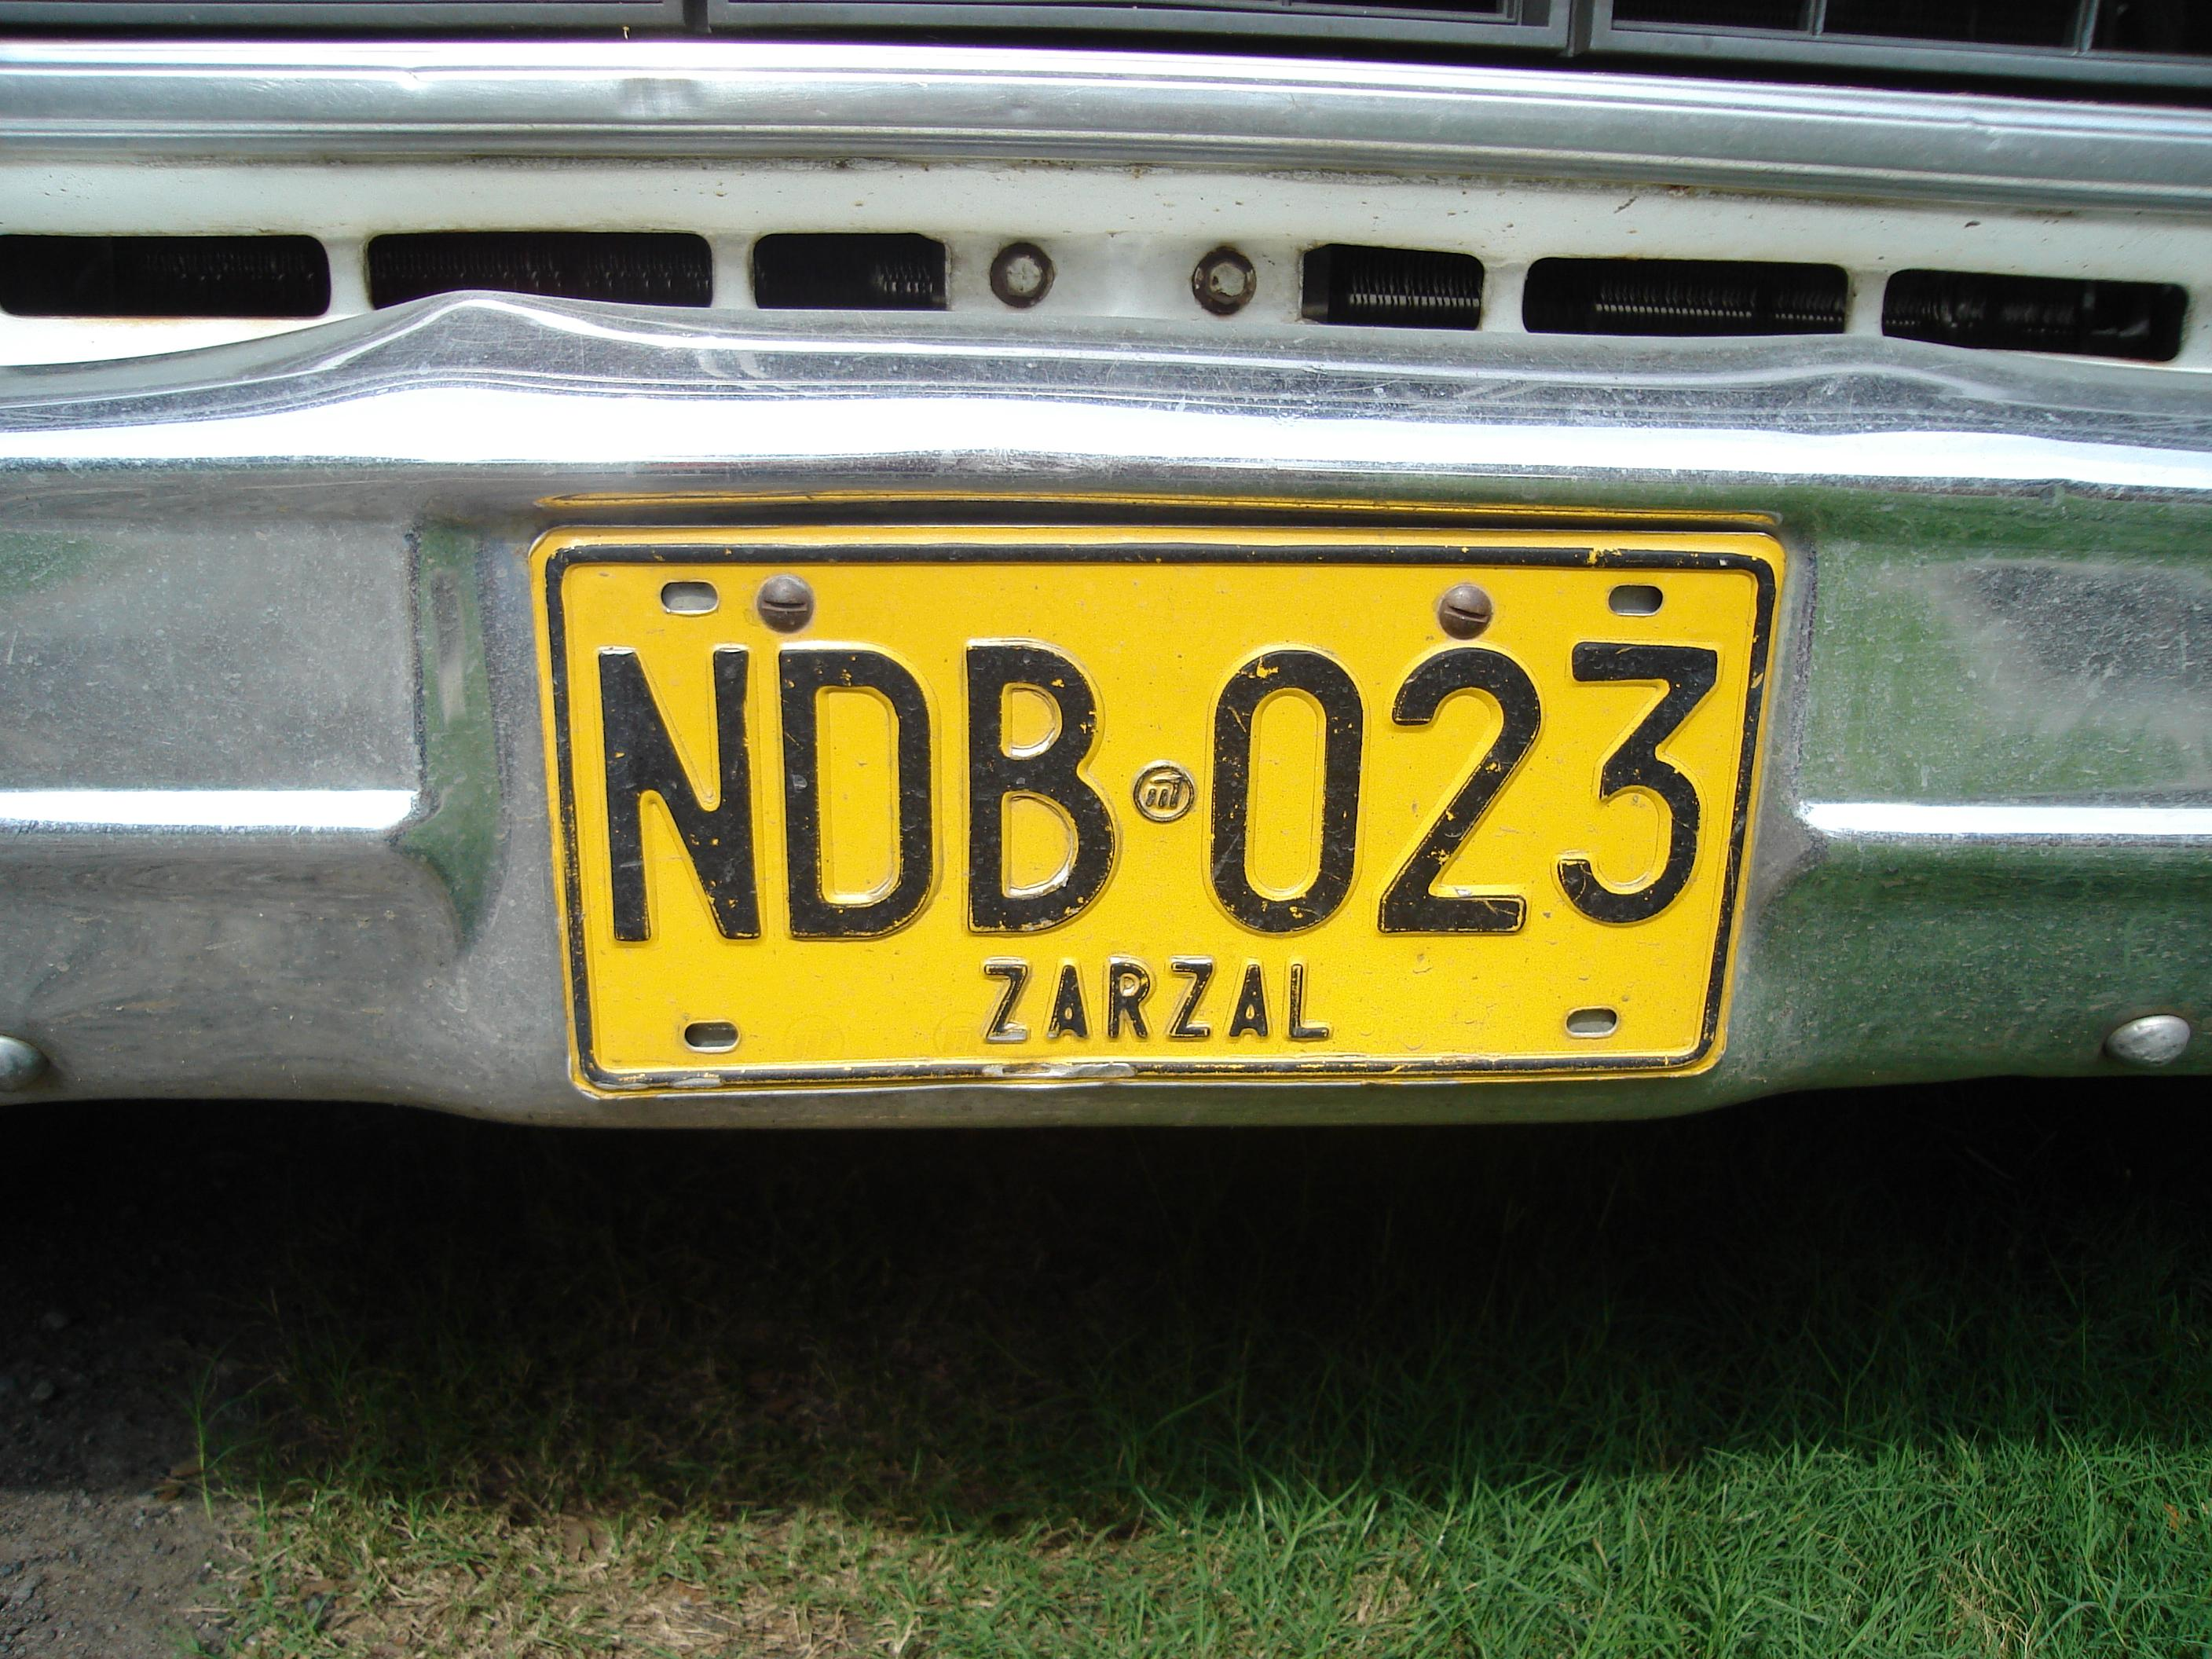placas: (509, 492, 1794, 1120)
